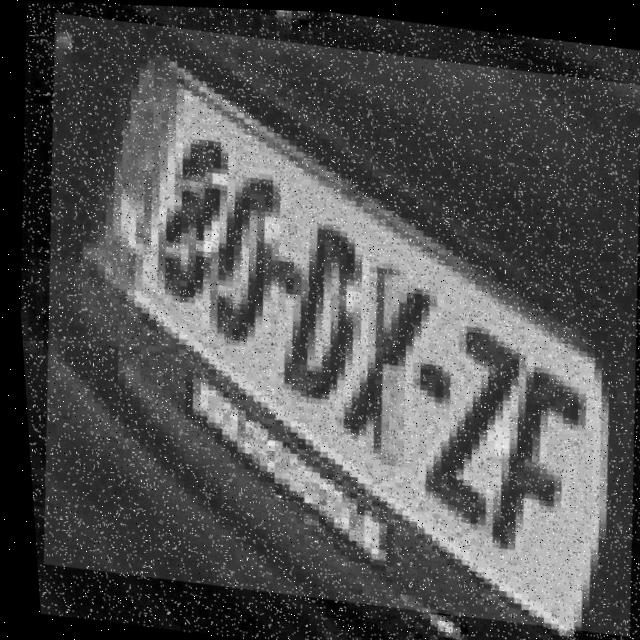LicensePlate: (6, 11, 640, 633)
